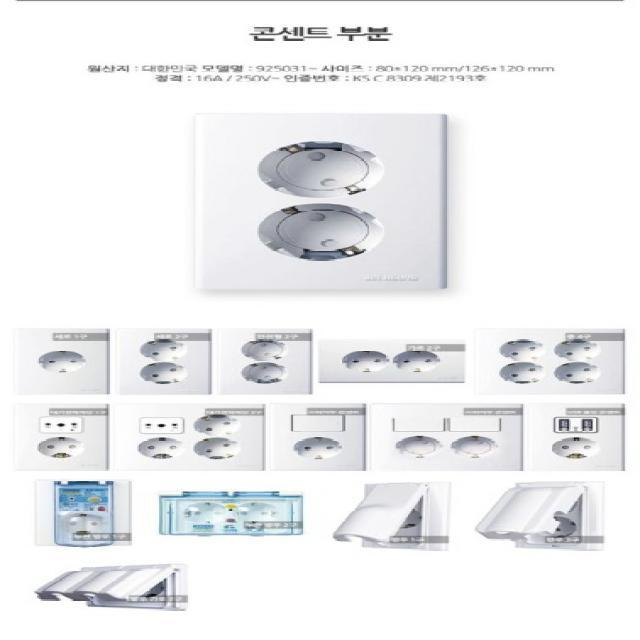typeb: (172, 103, 486, 306), (366, 401, 524, 477), (470, 325, 630, 400), (116, 400, 266, 477), (25, 478, 141, 550), (157, 485, 313, 538), (318, 336, 468, 389), (216, 324, 324, 396), (12, 324, 114, 399), (526, 401, 630, 474), (268, 400, 369, 470), (7, 406, 114, 469)
